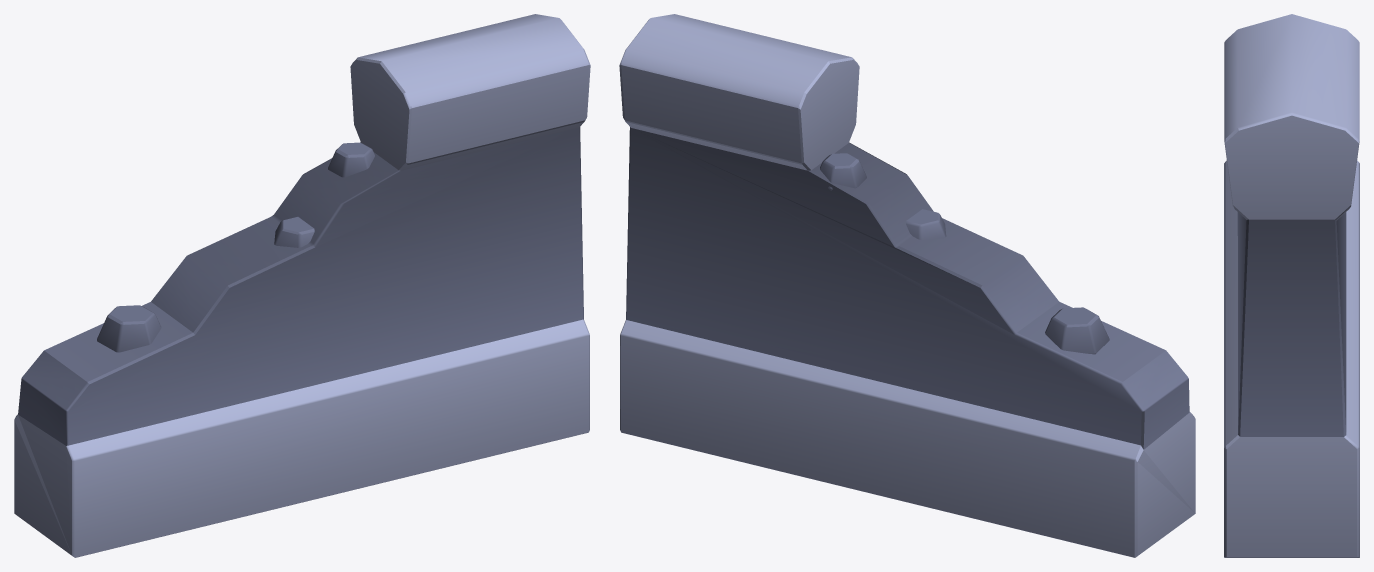
The model's file is kenney-graveyard__stone-wall-damaged.glb.
The picture shows the model from 3 angles, left to right: view 1: azimuth 30°, elevation 25°; view 2: azimuth 150°, elevation 25°; view 3: azimuth 270°, elevation 25°; orthographic projection. The views are drawn at different scales.
Parts seen in each view (by area): view 1: stone-wall-damaged; view 2: stone-wall-damaged; view 3: stone-wall-damaged.
Boxes of the visible parts, <box> form: stone-wall-damaged: <box>14,14,590,557</box>; stone-wall-damaged: <box>619,14,1195,557</box>; stone-wall-damaged: <box>1224,14,1359,557</box>.
Size of the model in its own units: 1 by 0.725 by 0.2.
Materials: 1 (1 with a texture image).
